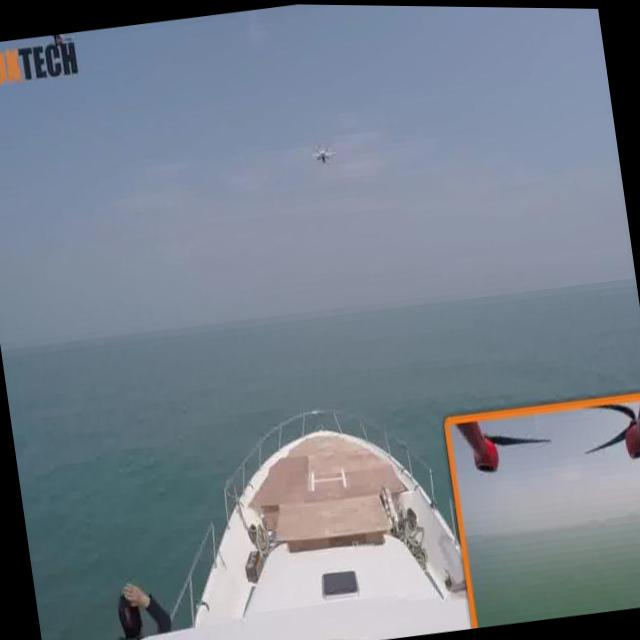drone: (300, 128, 347, 184)
